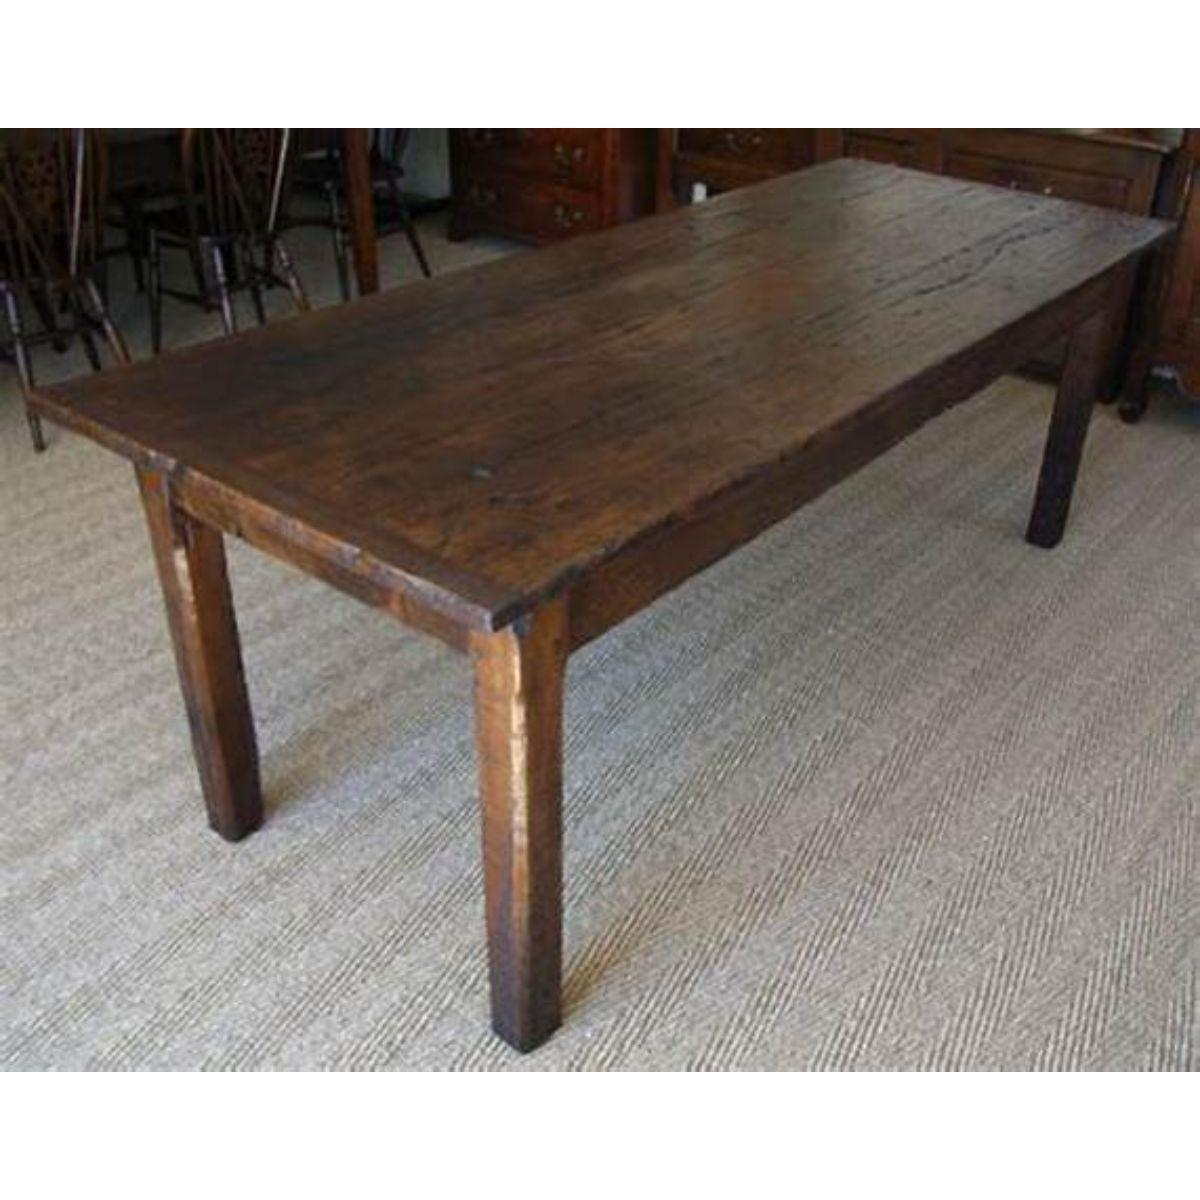Table: (14, 153, 1184, 1082)
